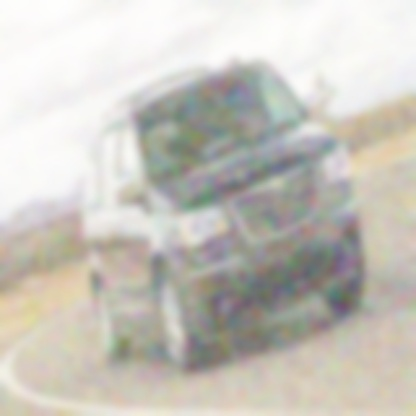Vehicle: (84, 56, 368, 380)
